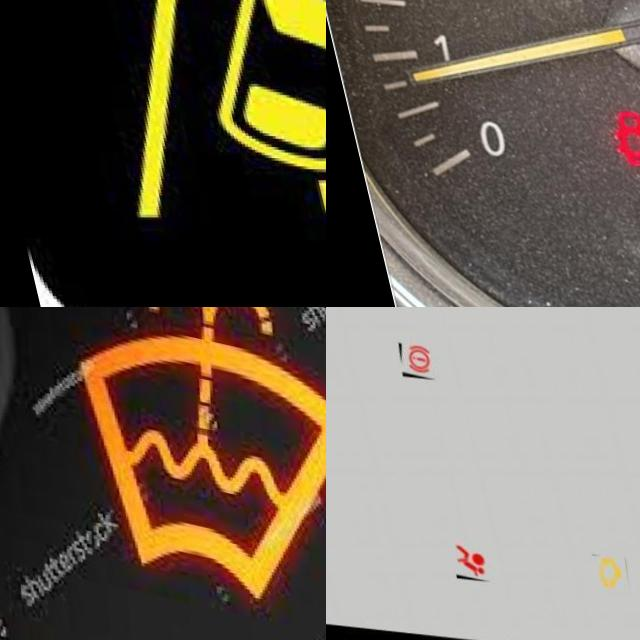Washer Fluid: (48, 307, 326, 601)
